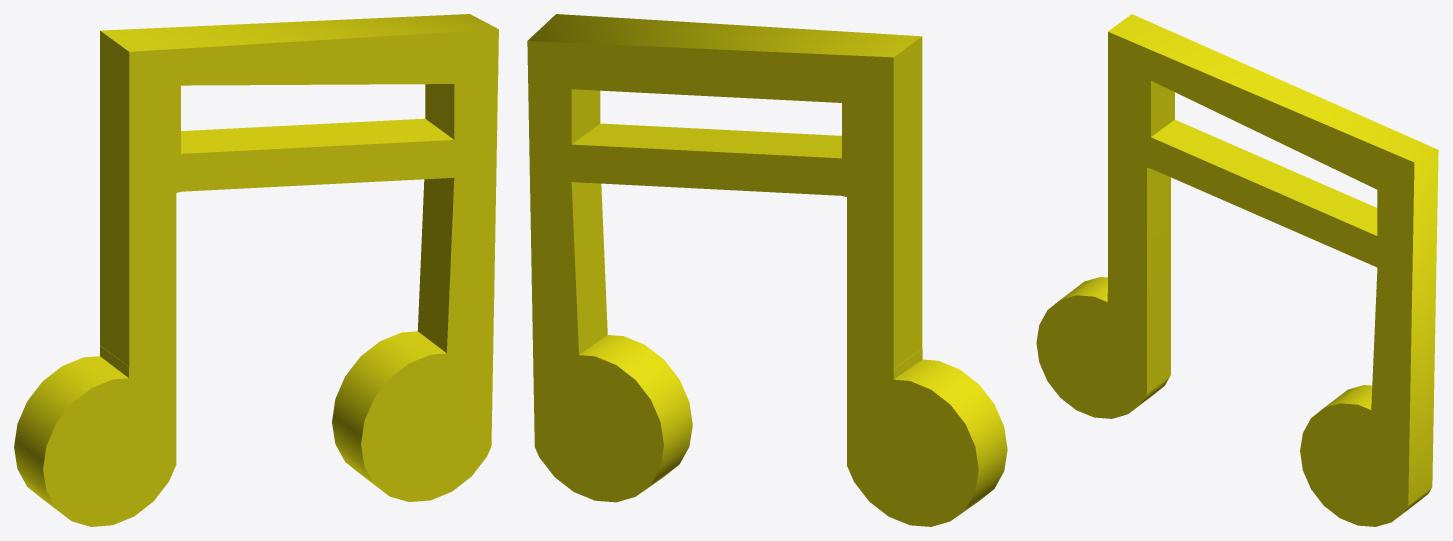
Rendered from MusicalNote.fbx.
The picture shows the model from 3 angles, left to right: view 1: azimuth 30°, elevation 25°; view 2: azimuth 150°, elevation 25°; view 3: azimuth 330°, elevation 25°; orthographic projection. The views are drawn at different scales.
Parts seen in each view (by area): view 1: pCylinder15.002; view 2: pCylinder15.002; view 3: pCylinder15.002.
Boxes of the visible parts, <box> form: pCylinder15.002: <box>14,14,498,526</box>; pCylinder15.002: <box>527,14,1007,526</box>; pCylinder15.002: <box>1036,14,1438,526</box>.
Bounding box in the file's own units: 655 × 716 × 72.25.
